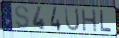4: (32, 6, 47, 32), (50, 6, 63, 32)
H: (81, 8, 98, 33)
L: (99, 10, 113, 33)
S: (14, 5, 30, 30)
U: (64, 7, 81, 32)
